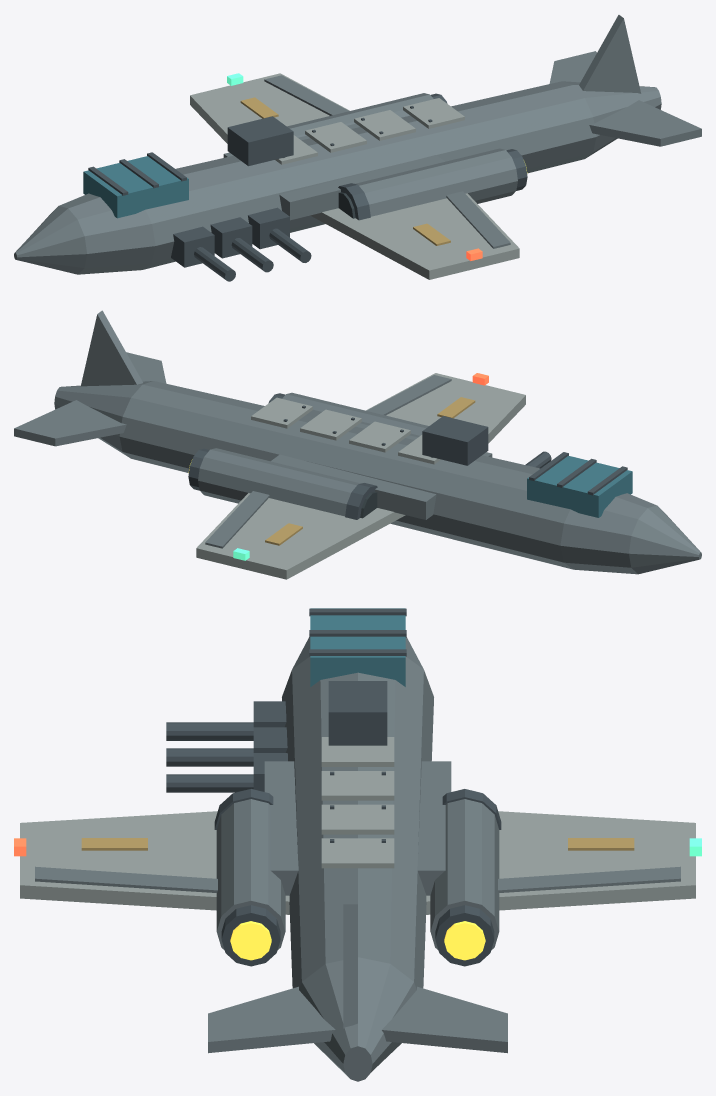
The model's file is spectre_gunship.glb.
3 views of the same model, one above another, from view 1: azimuth 30°, elevation 25°; view 2: azimuth 150°, elevation 25°; view 3: azimuth 270°, elevation 25° (orthographic). The views are drawn at different scales.
Visible parts, largest first — view 1: Pressure hull, Port wing, Engine nacelle, Starboard wing, Canopy, Tailplane, Vertical stabilizer, Wing root fairing, Sensor blister, Engine nacelle.001, Elevon, Side cannon mount (+14 smaller); view 2: Pressure hull, Starboard wing, Engine nacelle.001, Port wing, Canopy, Tailplane.001, Vertical stabilizer, Wing root fairing.001, Sensor blister, Engine nacelle, Elevon.001, Dorsal access panel.001 (+8 smaller); view 3: Pressure hull, Port wing, Starboard wing, Engine nacelle, Engine nacelle.001, Tailplane, Tailplane.001, Canopy, Sensor blister, Wing root fairing, Wing root fairing.001, Elevon (+18 smaller).
Boxes of the visible parts, x1,y1,x2,y2 form: Pressure hull: (14, 81, 661, 274); Port wing: (310, 193, 519, 279); Engine nacelle: (355, 148, 517, 216); Starboard wing: (190, 73, 349, 143); Canopy: (83, 156, 188, 218); Tailplane: (589, 100, 701, 146); Vertical stabilizer: (579, 15, 641, 93); Wing root fairing: (279, 155, 444, 220); Sensor blister: (227, 116, 293, 166); Engine nacelle.001: (287, 93, 433, 137); Elevon: (446, 191, 510, 248); Side cannon mount: (171, 226, 214, 267); Pressure hull: (54, 381, 701, 574); Starboard wing: (196, 493, 405, 579); Engine nacelle.001: (198, 448, 360, 516); Port wing: (366, 373, 525, 443); Canopy: (527, 455, 632, 517); Tailplane.001: (14, 400, 126, 446); Vertical stabilizer: (81, 310, 142, 386); Wing root fairing.001: (271, 454, 436, 519); Sensor blister: (422, 416, 488, 465); Engine nacelle: (282, 392, 428, 437); Elevon.001: (205, 491, 269, 548); Dorsal access panel.001: (349, 421, 410, 452); Pressure hull: (282, 637, 433, 1081); Port wing: (20, 811, 289, 914); Starboard wing: (426, 811, 695, 914); Engine nacelle: (216, 799, 285, 949); Engine nacelle.001: (430, 799, 499, 949); Tailplane: (208, 986, 335, 1053); Tailplane.001: (382, 986, 507, 1053); Canopy: (310, 608, 405, 686); Sensor blister: (328, 681, 387, 745); Wing root fairing: (264, 761, 298, 895); Wing root fairing.001: (417, 761, 451, 895); Elevon: (35, 866, 217, 892).
Bounding box in the file's own units: 8.5 × 1.67 × 5.6.
